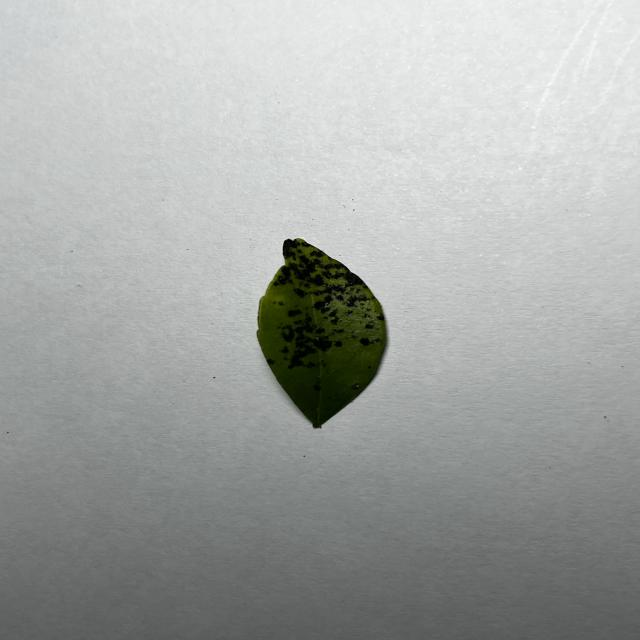sooty_mold: (257, 238, 386, 428)
